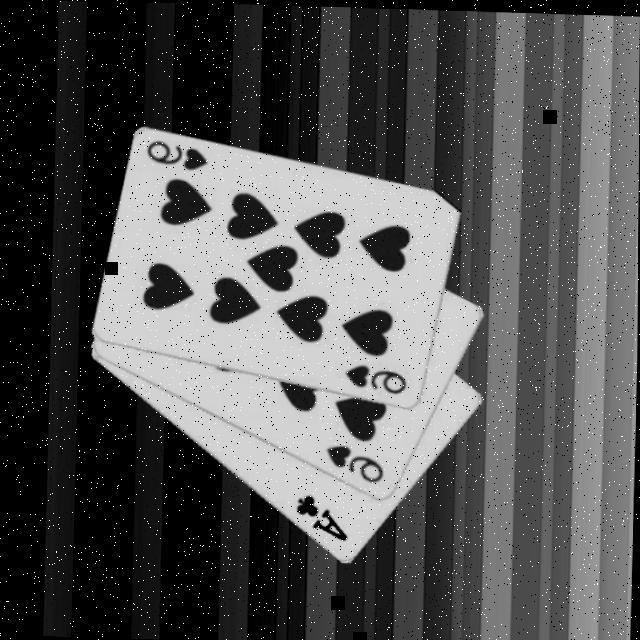9H: (323, 438, 389, 483), (342, 358, 412, 396), (144, 134, 212, 172)
AC: (292, 488, 353, 542)
